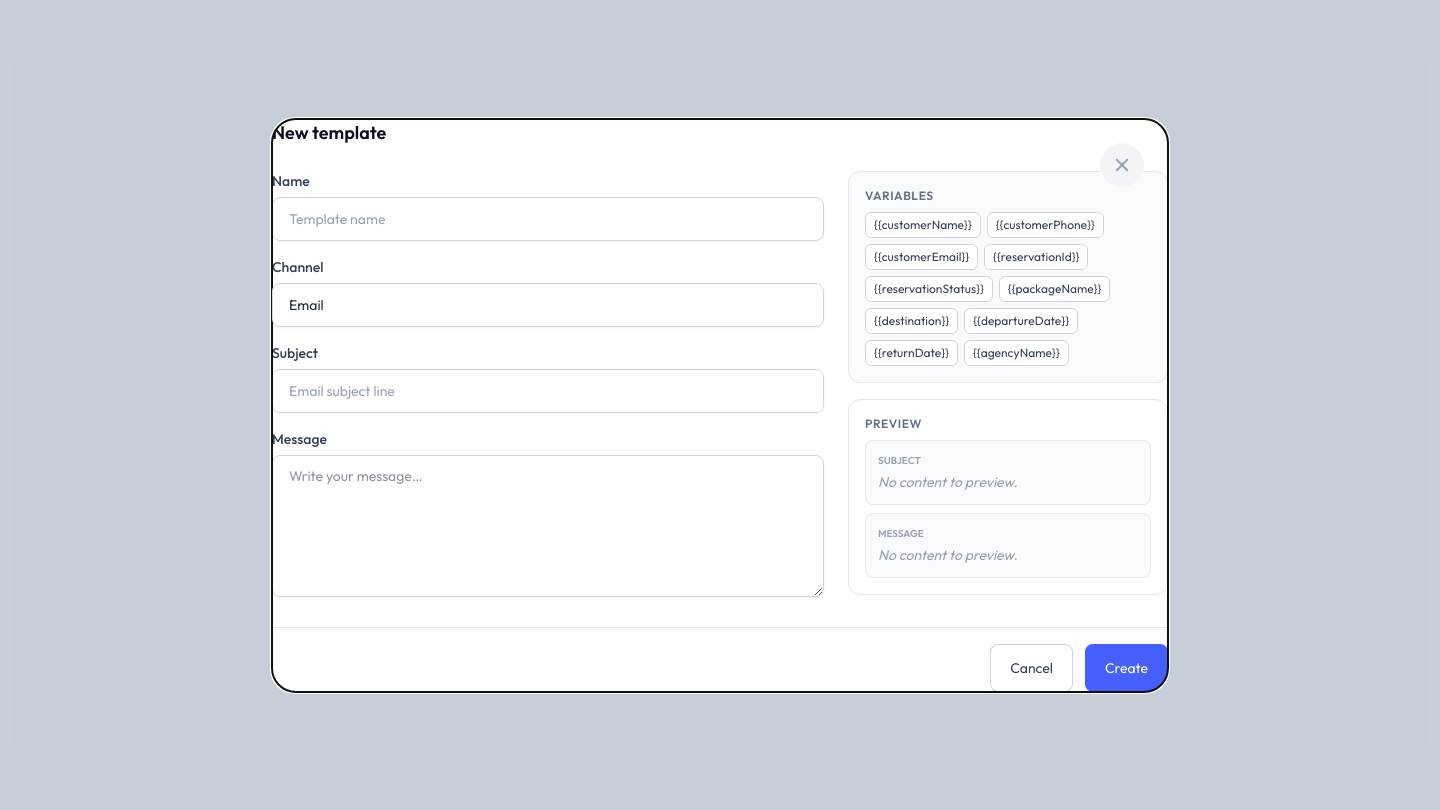
Test: TemplateEditorModal › shows validation errors on empty submit
Click the button "Create" at (1126, 668), box [1085,644,1168,692]
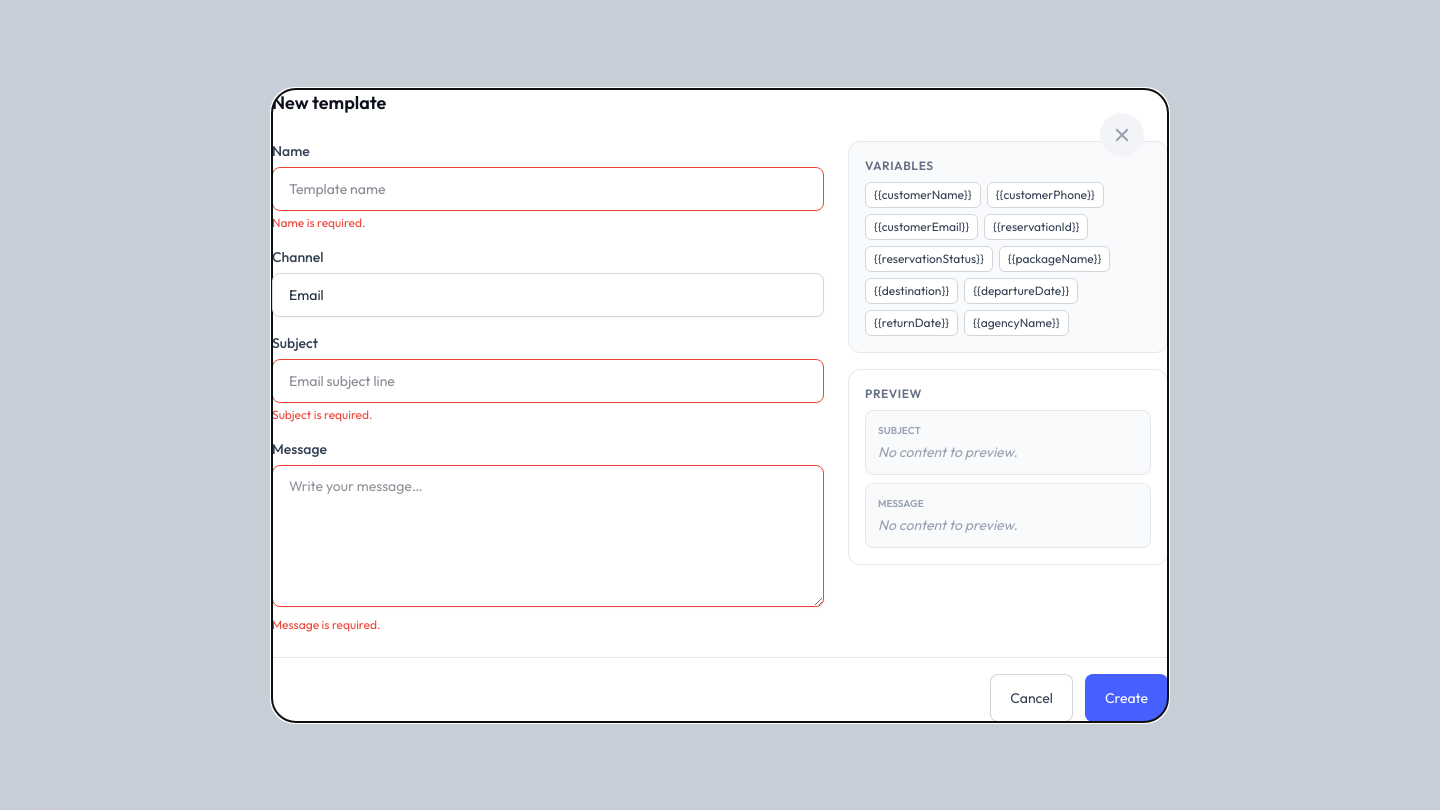
Now the text "Name is required." is shown, box [272,214,366,230]
